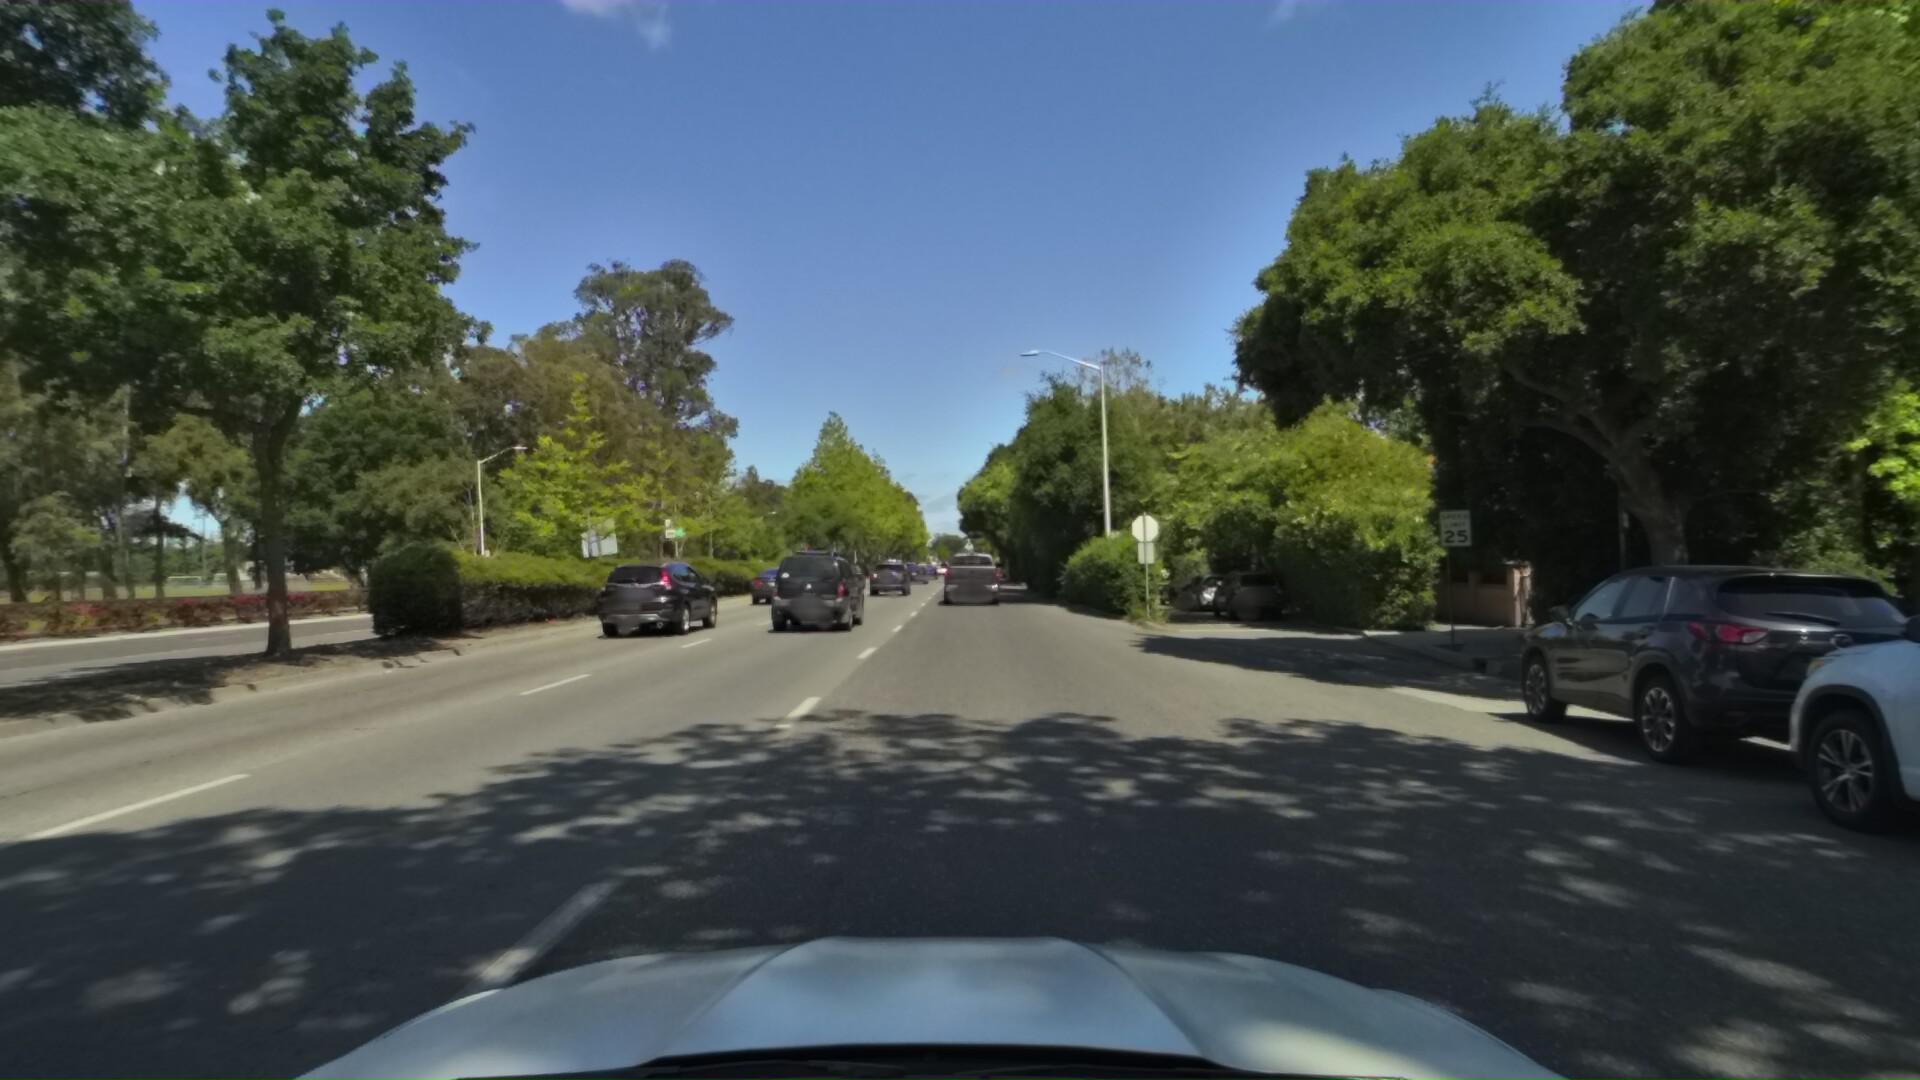car: (1507, 553, 1920, 804), (1762, 458, 1920, 1080), (589, 556, 725, 646), (765, 542, 866, 637), (1207, 560, 1290, 618), (938, 541, 1002, 612), (742, 560, 808, 609), (1155, 568, 1221, 612), (1178, 567, 1244, 607), (864, 556, 910, 596), (833, 563, 872, 592), (902, 563, 930, 585)
